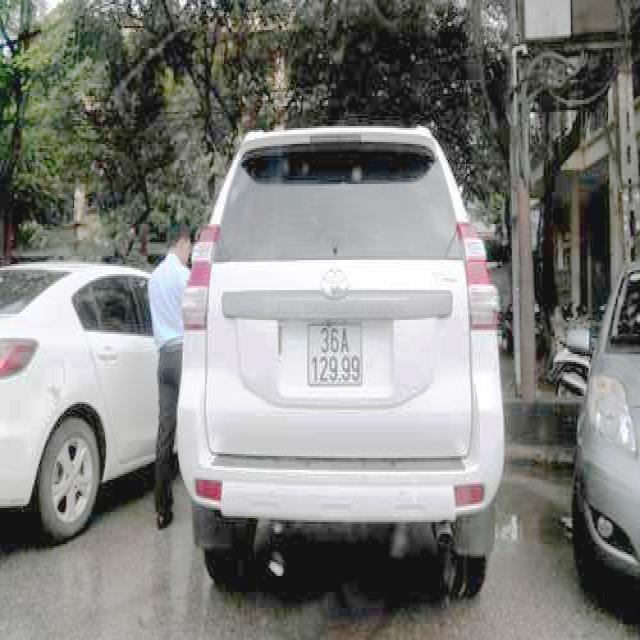license_plate: (309, 326, 365, 390)
